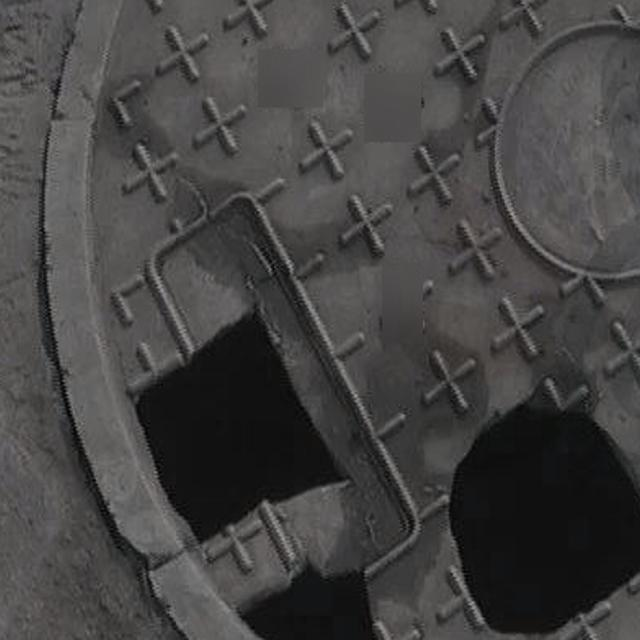broke: (95, 0, 640, 640)
